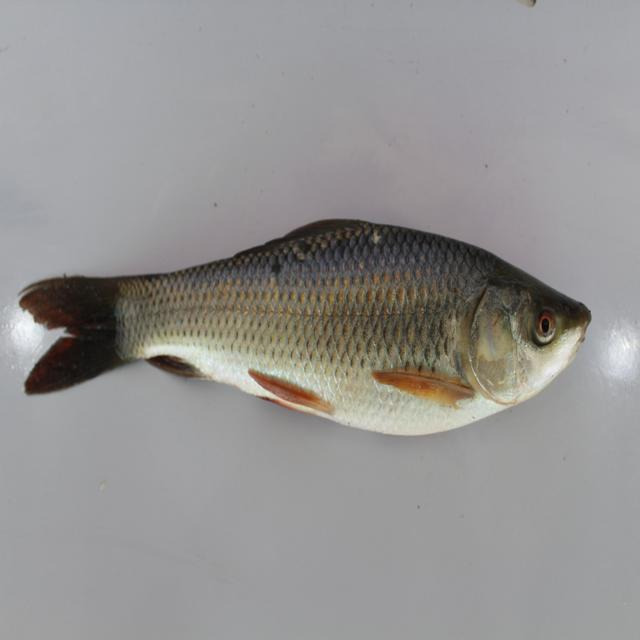Rohu: (14, 217, 593, 450)
